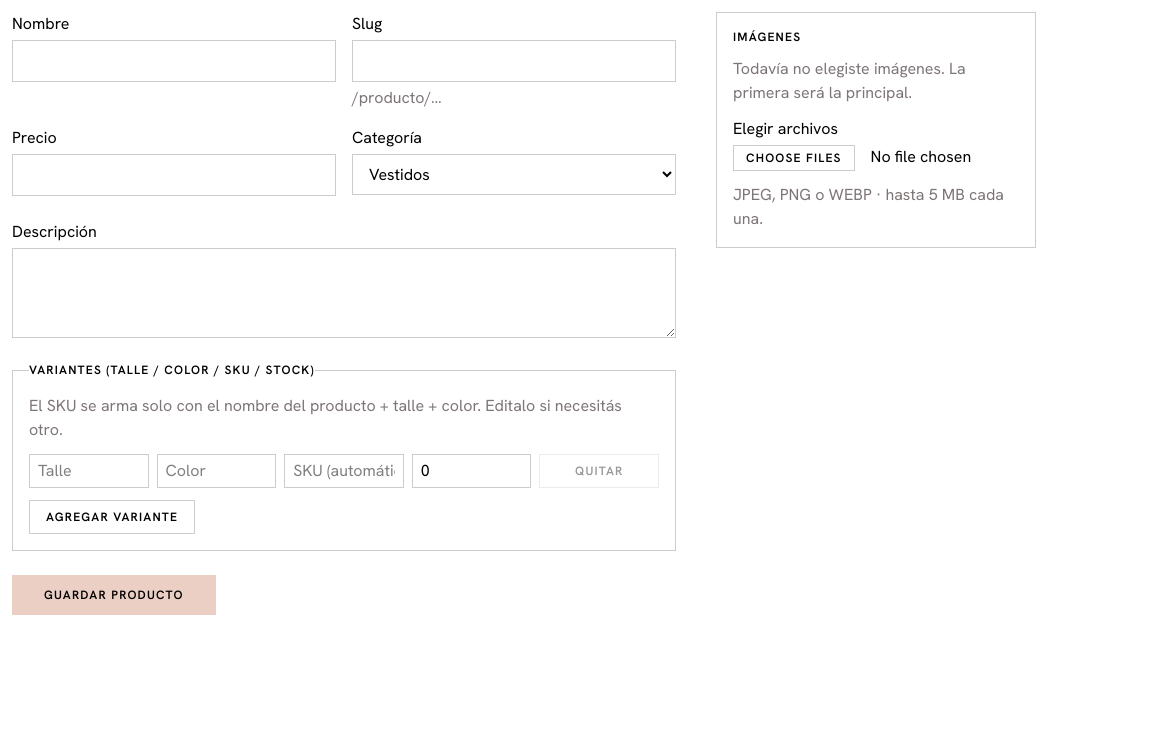
Test: NewProductForm slug auto-fill › auto-fills the slug from the name via toSlug while it is untouched
The width and height of the screenshot is (1164, 732).
Type "Vestido de Baño" into the field labelled "Nombre" at (174, 61), box [12,40,336,82]
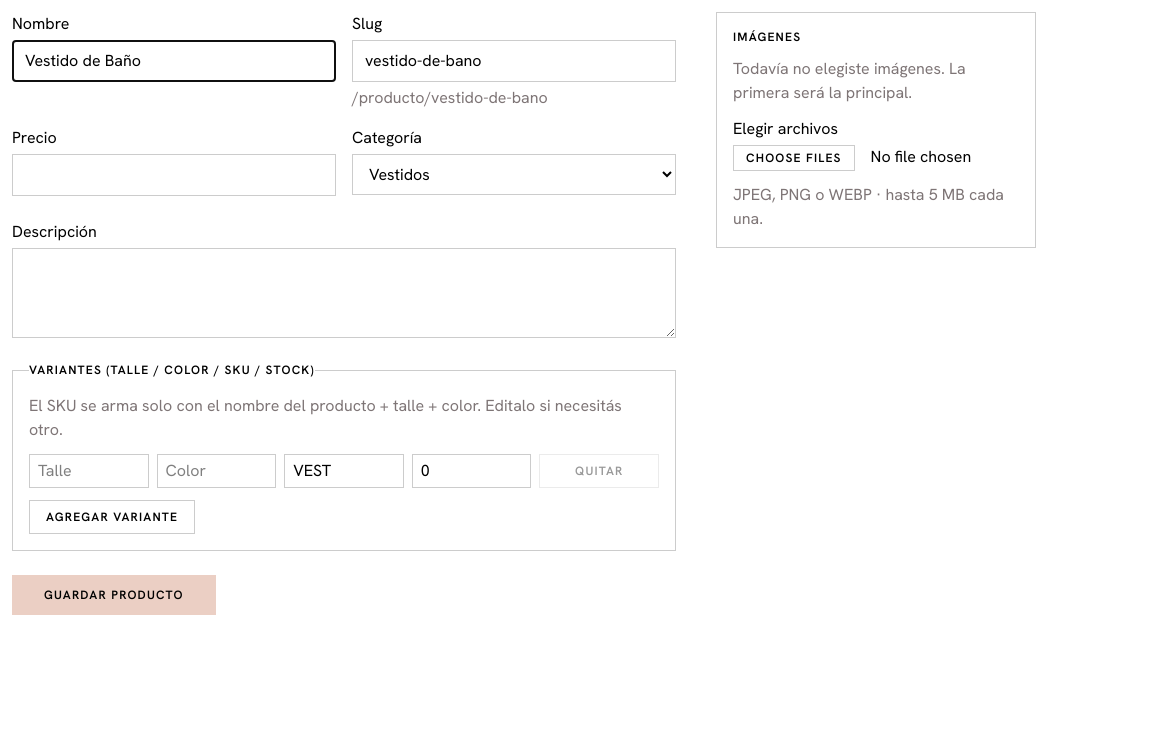
Now the field labelled "Slug /producto/vestido-de-bano" holds "vestido-de-bano", box [352,40,676,82]
